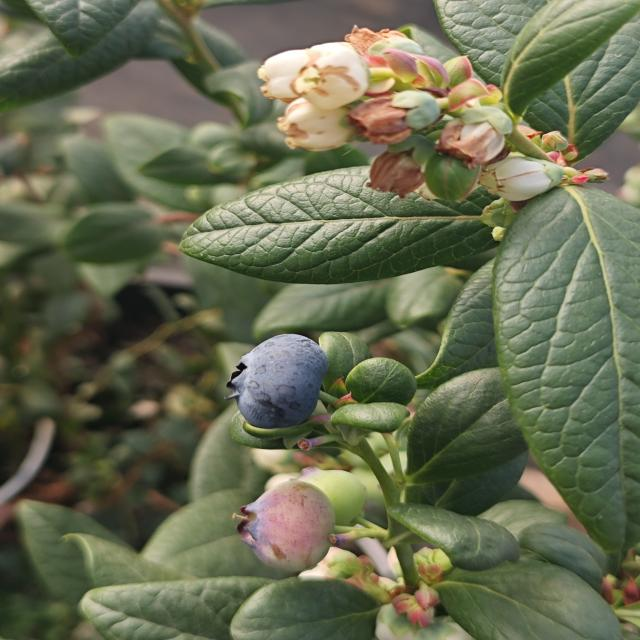ripe: (219, 328, 332, 431)
